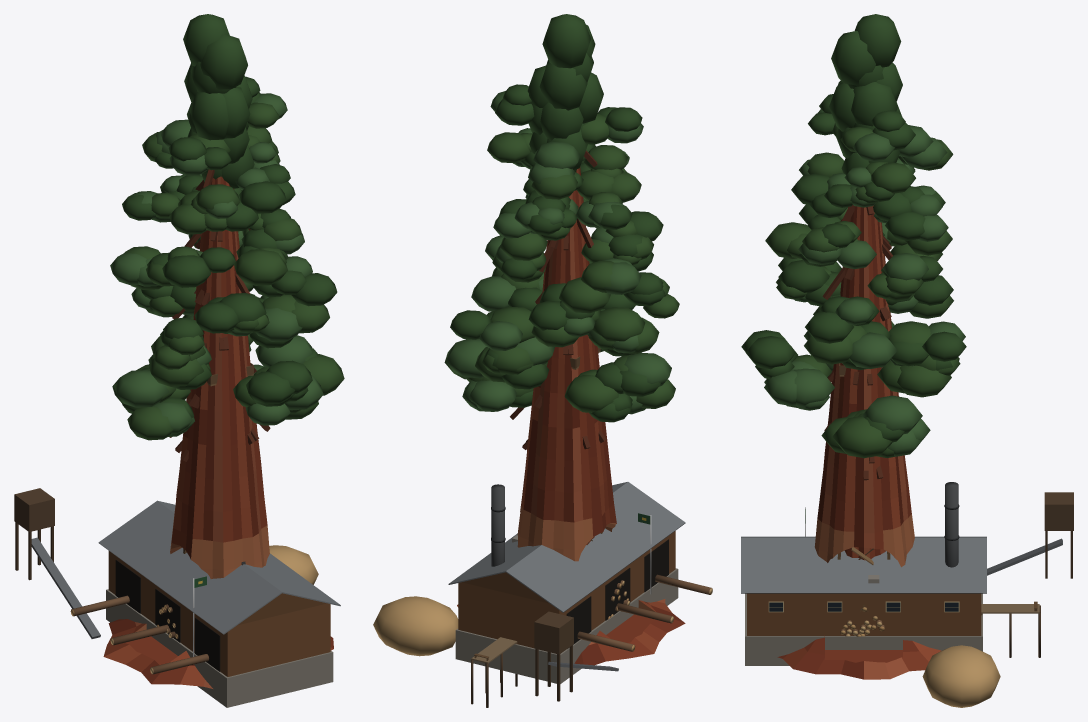
File: props_forest.glb
The picture shows the model from 3 angles, left to right: view 1: azimuth 30°, elevation 25°; view 2: azimuth 150°, elevation 25°; view 3: azimuth 270°, elevation 25°; orthographic projection. The views are drawn at different scales.
Parts seen in each view (by area): view 1: tunnel_tree, mill, giant_tree, giant_tree_b; view 2: tunnel_tree, mill, giant_tree_b, giant_tree, jetty_long; view 3: tunnel_tree, mill, giant_tree_b, giant_tree, jetty_long.
Boxes of the visible parts, x1=… form: tunnel_tree: x1=103, y1=14, x2=344, y2=688; mill: x1=14, y1=488, x2=340, y2=707; giant_tree: x1=127, y1=86, x2=329, y2=461; giant_tree_b: x1=122, y1=92, x2=323, y2=452; tunnel_tree: x1=444, y1=14, x2=685, y2=665; mill: x1=373, y1=482, x2=712, y2=701; giant_tree_b: x1=471, y1=72, x2=653, y2=544; giant_tree: x1=462, y1=102, x2=675, y2=544; jetty_long: x1=471, y1=637, x2=517, y2=707; tunnel_tree: x1=741, y1=14, x2=966, y2=679; mill: x1=741, y1=482, x2=1073, y2=707; giant_tree_b: x1=764, y1=80, x2=960, y2=560; giant_tree: x1=776, y1=82, x2=959, y2=558; jetty_long: x1=981, y1=601, x2=1040, y2=657.
Size of the model in its own units: 29.31 by 72.02 by 34.1.
